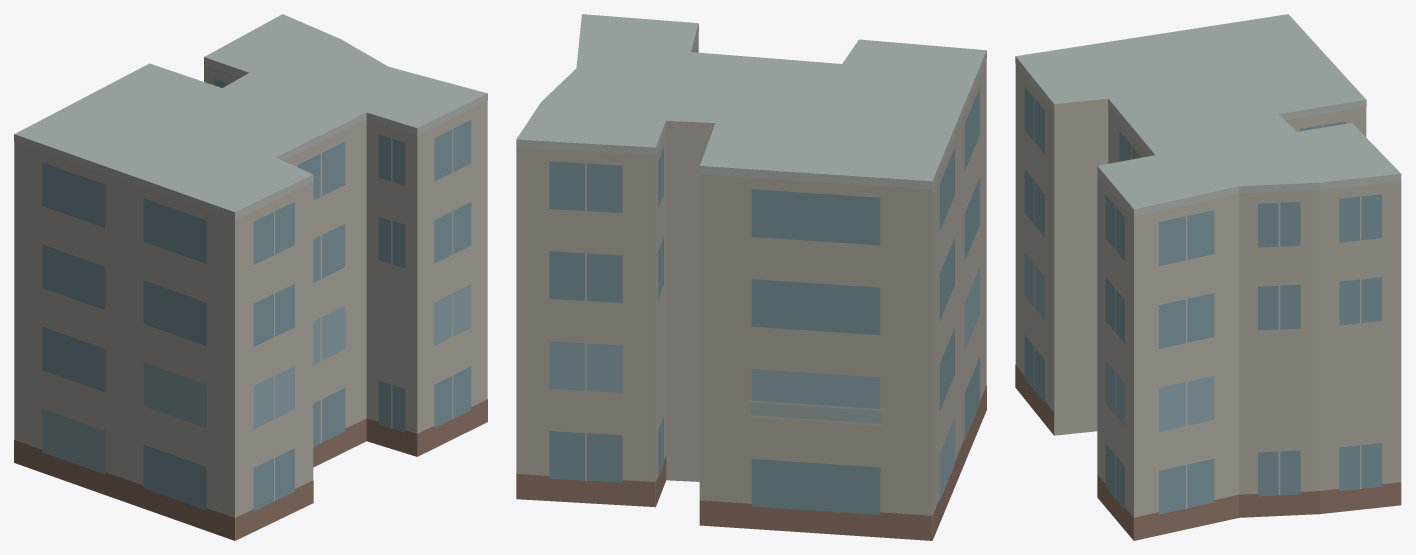
The model's file is survey-upis-32852994.glb.
3 views of the same model, side by side, from view 1: azimuth 30°, elevation 25°; view 2: azimuth 150°, elevation 25°; view 3: azimuth 270°, elevation 25° (orthographic). The views are drawn at different scales.
Visible parts, largest first — view 1: survey-upis-32852994.tmp; view 2: survey-upis-32852994.tmp; view 3: survey-upis-32852994.tmp.
Part boxes in pixels (x1,y1,x2,y2): survey-upis-32852994.tmp: (14, 14, 487, 540); survey-upis-32852994.tmp: (516, 14, 986, 540); survey-upis-32852994.tmp: (1015, 14, 1401, 540).
Bounding box in the file's own units: 13.66 × 10.8 × 11.4.
